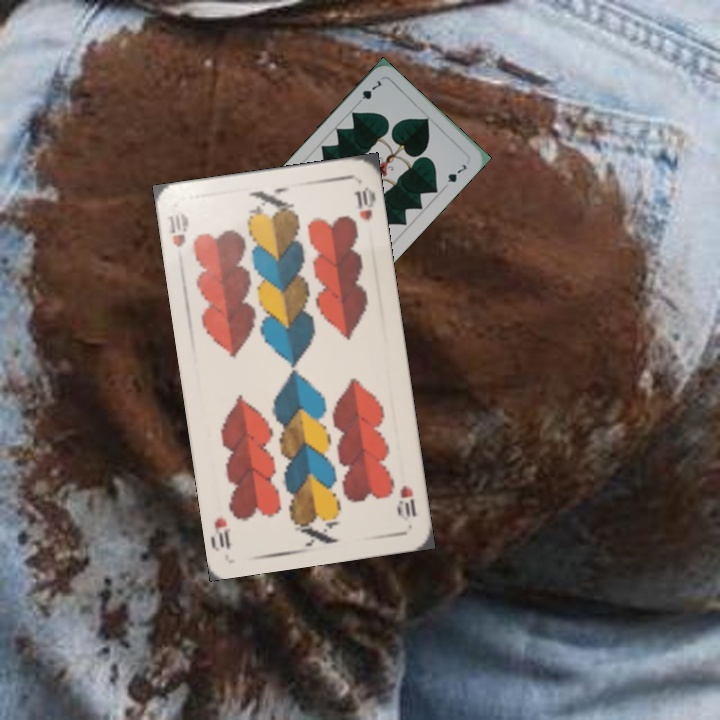G7: (352, 76, 384, 108)
H10: (163, 209, 192, 250), (393, 481, 419, 523)
